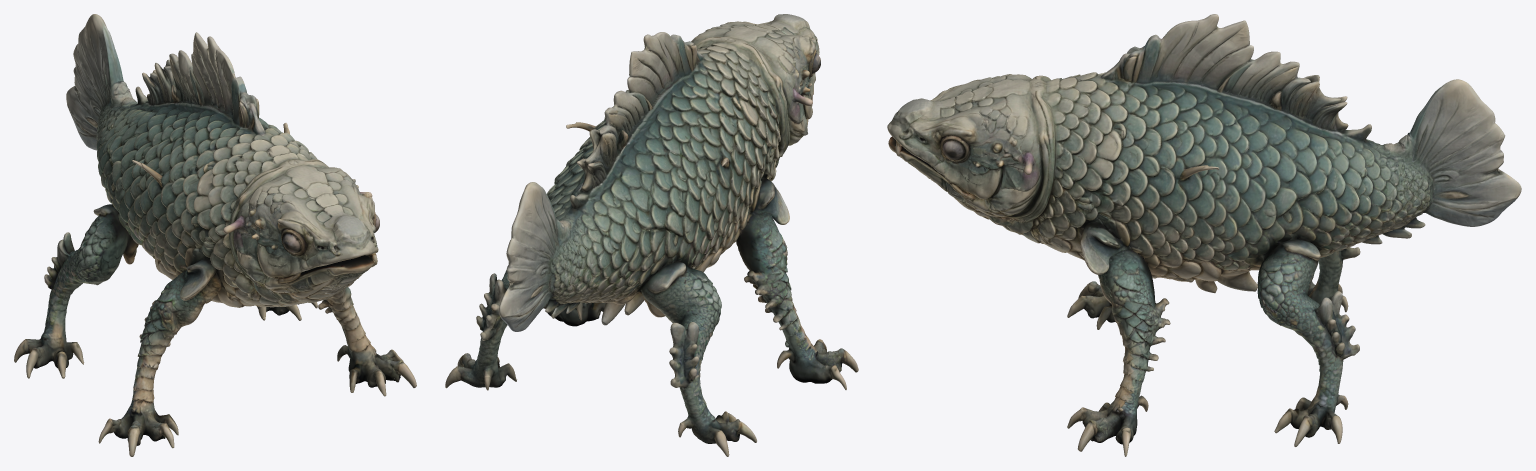
File: ranyiyu.glb
3 views of the same model, side by side, from view 1: azimuth 30°, elevation 25°; view 2: azimuth 150°, elevation 25°; view 3: azimuth 270°, elevation 25° (orthographic). The views are drawn at different scales.
Visible parts, largest first — view 1: tripo_node_921c26b8-4eb7-43c5-bb32-f2225bd9cd37; view 2: tripo_node_921c26b8-4eb7-43c5-bb32-f2225bd9cd37; view 3: tripo_node_921c26b8-4eb7-43c5-bb32-f2225bd9cd37.
Part boxes in pixels (bbox=[...]): tripo_node_921c26b8-4eb7-43c5-bb32-f2225bd9cd37: bbox=[14, 14, 416, 456]; tripo_node_921c26b8-4eb7-43c5-bb32-f2225bd9cd37: bbox=[445, 14, 858, 456]; tripo_node_921c26b8-4eb7-43c5-bb32-f2225bd9cd37: bbox=[887, 14, 1521, 456].
Bounding box in the file's own units: 0.5853 × 0.6199 × 0.9804.
Materials: 1 (1 with a texture image).
